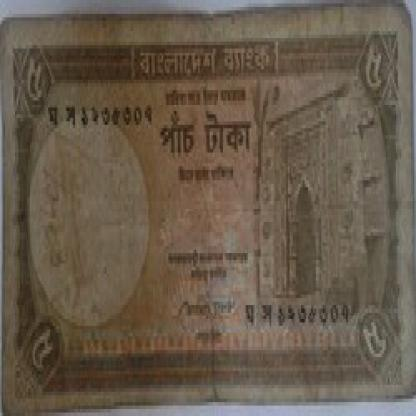Five Taka: (352, 308, 404, 371), (8, 35, 55, 104), (25, 315, 53, 398), (361, 45, 389, 104)
